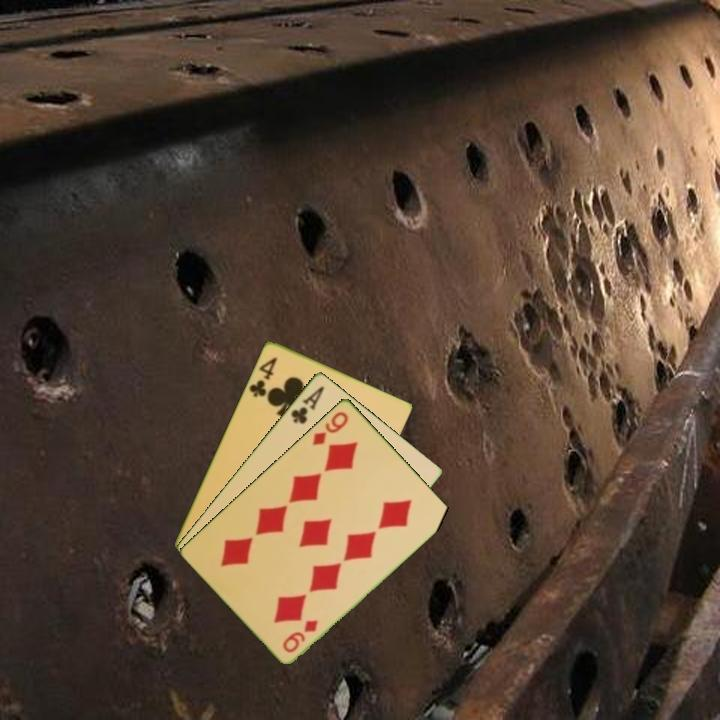4c: (245, 353, 280, 400)
9d: (309, 408, 351, 448), (279, 616, 321, 655)
Ac: (287, 382, 327, 427)
